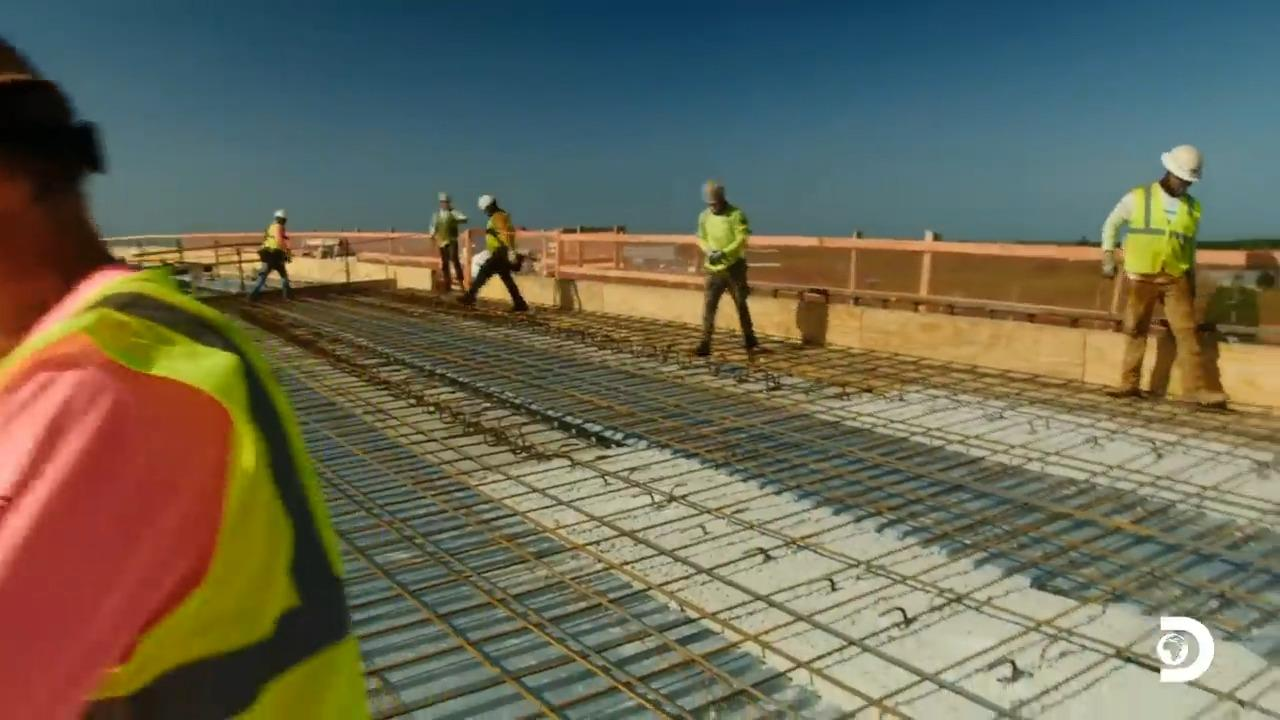Gloves: (1096, 254, 1120, 277), (504, 247, 520, 265)
Helmet: (1159, 144, 1202, 182), (696, 173, 734, 208), (477, 194, 495, 210), (273, 208, 286, 220), (437, 191, 451, 202)
Person: (0, 36, 373, 719), (1099, 143, 1229, 407), (693, 179, 761, 356), (455, 193, 529, 312), (248, 208, 296, 303), (428, 191, 468, 292)
Safety Boot: (1104, 378, 1144, 401), (1186, 387, 1224, 403), (692, 341, 710, 357), (511, 304, 528, 315)
Safety Vest: (28, 305, 367, 701), (1129, 201, 1195, 287), (704, 214, 741, 261), (483, 214, 510, 242), (265, 228, 284, 253), (434, 216, 453, 239)
